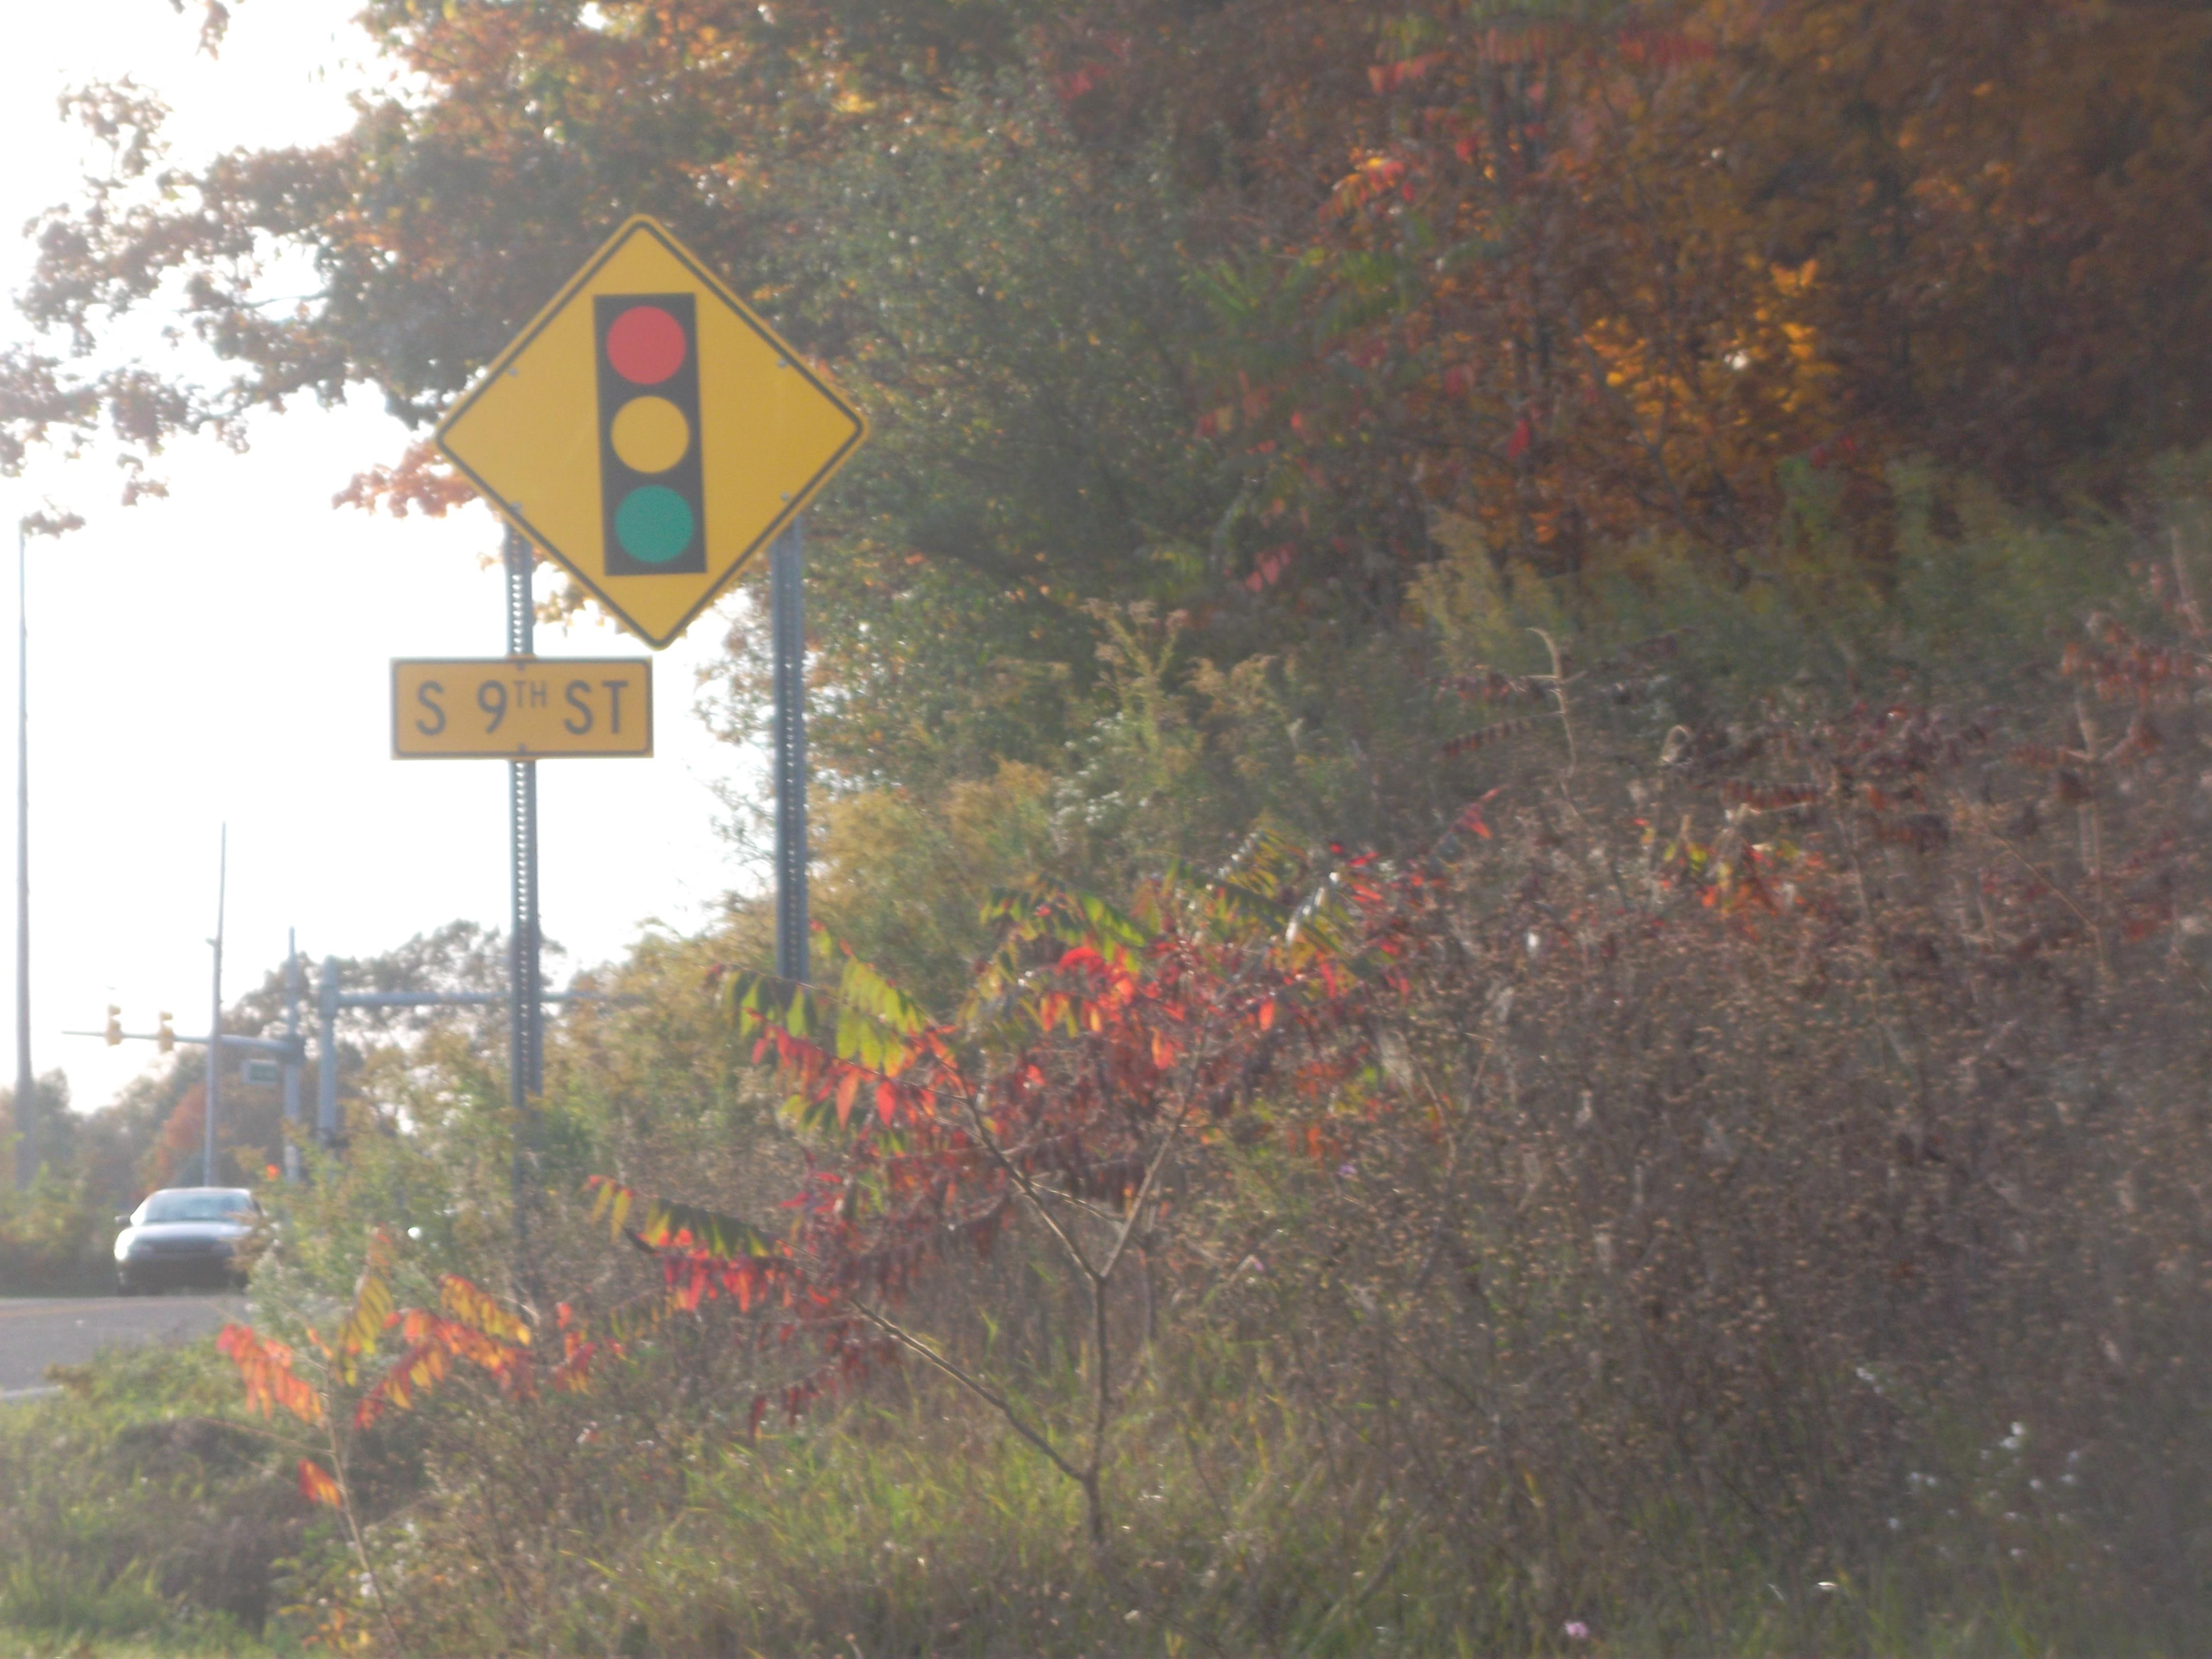warning: (427, 214, 869, 652)
